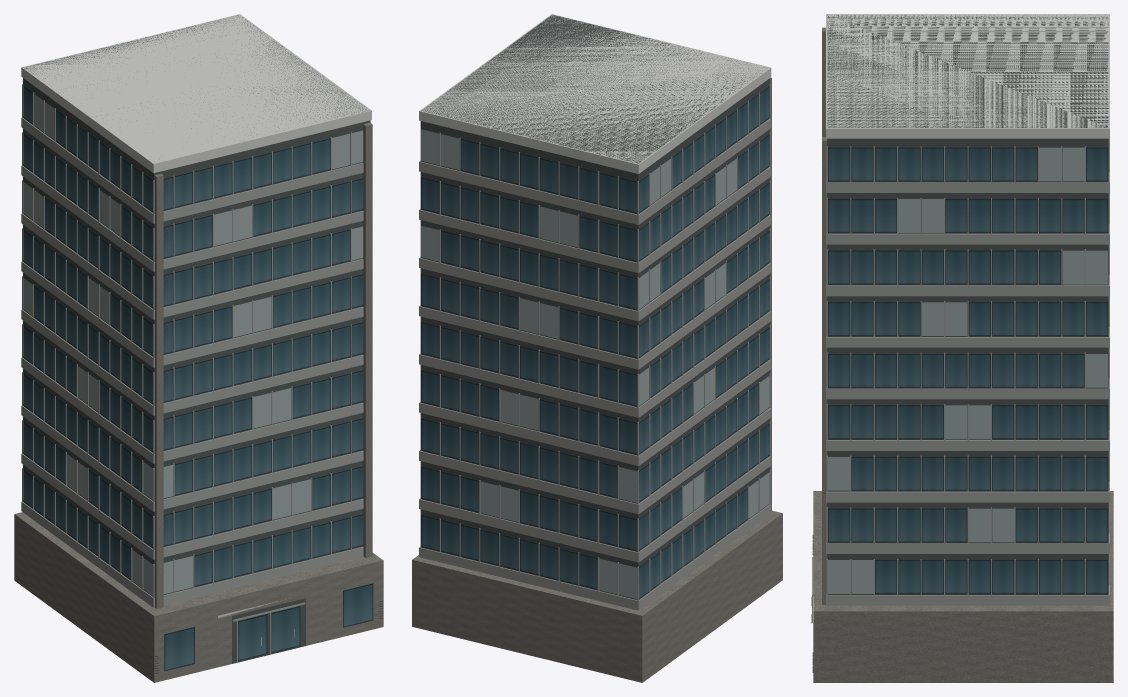
Rendered from urban_tower_b.glb.
The picture shows the model from 3 angles, left to right: view 1: azimuth 30°, elevation 25°; view 2: azimuth 150°, elevation 25°; view 3: azimuth 270°, elevation 25°; orthographic projection. The views are drawn at different scales.
Parts seen in each view (by area): view 1: UrbanGlazing, UrbanAnodizedMetal, UrbanPaleConcrete, UrbanStone, UrbanRecess, UrbanGlazingWarm; view 2: UrbanGlazing, UrbanAnodizedMetal, UrbanRecess, UrbanPaleConcrete, UrbanStone, UrbanGlazingWarm; view 3: UrbanGlazing, UrbanRecess, UrbanAnodizedMetal, UrbanPaleConcrete, UrbanStone, UrbanGlazingWarm.
Part boxes in pixels (x1,y1,x2,y2): UrbanGlazing: [23, 86, 373, 671]; UrbanAnodizedMetal: [21, 84, 363, 662]; UrbanPaleConcrete: [21, 14, 371, 645]; UrbanStone: [14, 122, 383, 682]; UrbanRecess: [23, 15, 382, 673]; UrbanGlazingWarm: [23, 94, 363, 595]; UrbanGlazing: [421, 86, 769, 598]; UrbanAnodizedMetal: [419, 84, 771, 610]; UrbanRecess: [420, 14, 769, 599]; UrbanPaleConcrete: [419, 14, 771, 173]; UrbanStone: [412, 77, 782, 682]; UrbanGlazingWarm: [421, 129, 769, 599]; UrbanGlazing: [828, 147, 1107, 593]; UrbanRecess: [812, 15, 1108, 672]; UrbanAnodizedMetal: [812, 138, 1109, 622]; UrbanPaleConcrete: [811, 14, 1109, 623]; UrbanStone: [813, 27, 1113, 682]; UrbanGlazingWarm: [828, 147, 1107, 593].
Size of the model in its own units: 18 by 38.5 by 19.11.
Materials: 6 (2 with a texture image).
